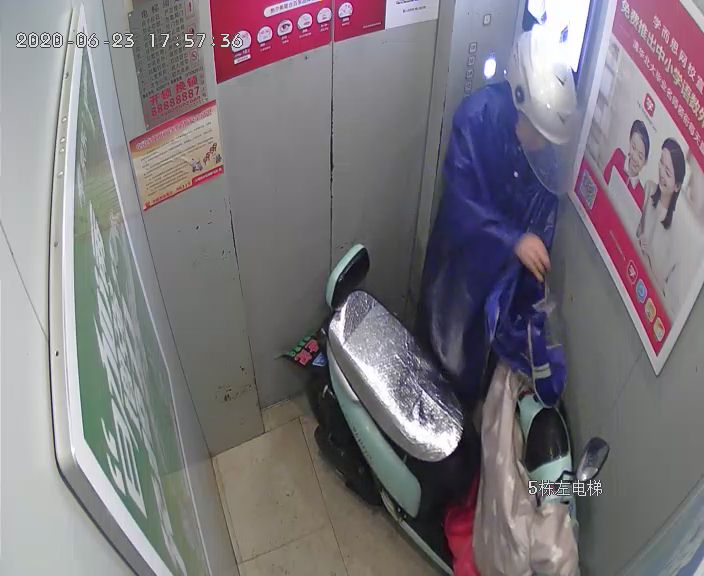Electric-bicycle: (298, 248, 602, 562)
